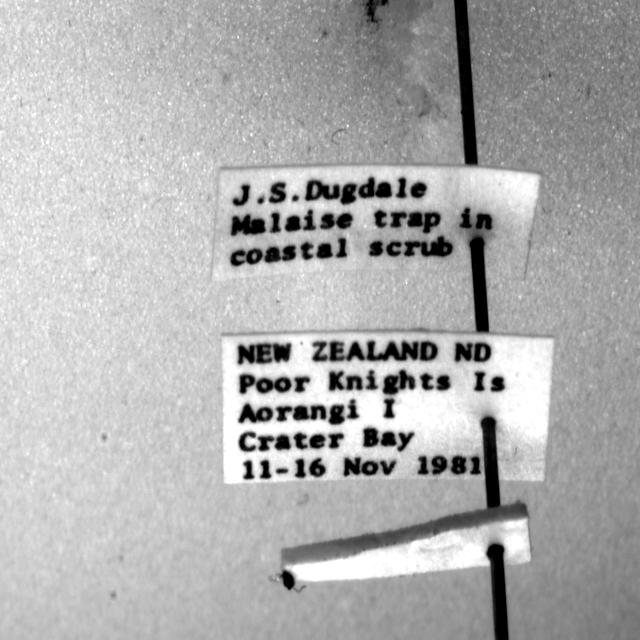typed_label: (221, 330, 554, 484), (212, 165, 540, 279)
